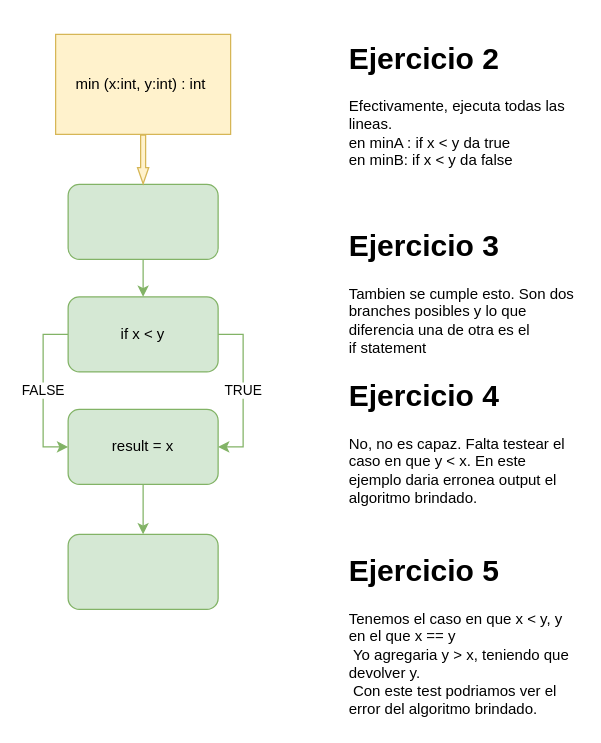
Image size: 601x743. Some labels were removed from this diagram. The shapes that lost their labels are listed below. From the top down, each one's centre as x and y in pixels, then its label:
At pixel 142 221: "result: int = 0".
At pixel 142 571: "return result".
